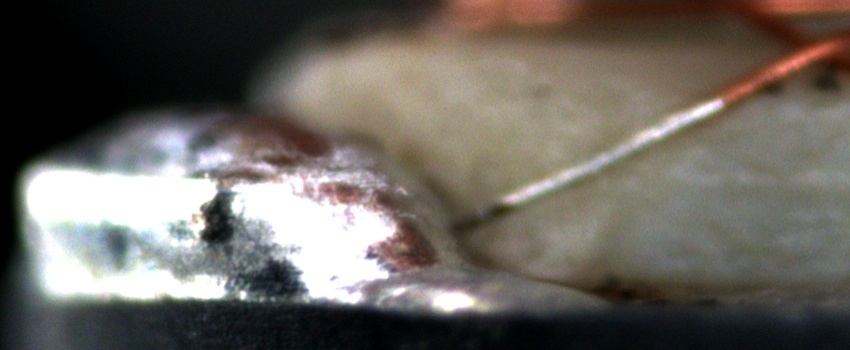DL: (626, 152, 850, 216)
TS: (452, 93, 725, 235)
